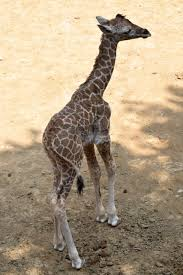Jirafa: (35, 6, 163, 256)
